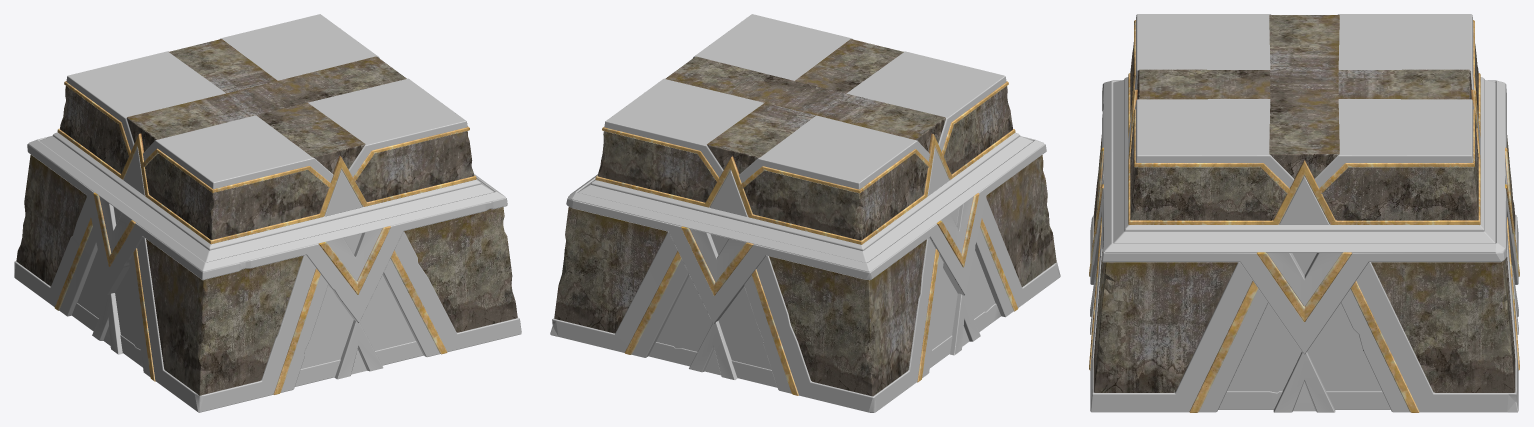
3 renders of one model, left to right at view 1: azimuth 30°, elevation 25°; view 2: azimuth 150°, elevation 25°; view 3: azimuth 270°, elevation 25°, orthographic. The views are drawn at different scales.
Visible parts, largest first — view 1: SM_DK_16m_TowerMid_013_LOD0; view 2: SM_DK_16m_TowerMid_013_LOD0; view 3: SM_DK_16m_TowerMid_013_LOD0.
Part boxes in pixels (bbox=[...]): SM_DK_16m_TowerMid_013_LOD0: bbox=[14, 14, 521, 412]; SM_DK_16m_TowerMid_013_LOD0: bbox=[550, 14, 1060, 412]; SM_DK_16m_TowerMid_013_LOD0: bbox=[1089, 14, 1519, 412].
Bounding box in the file's own units: 6.39 × 3.89 × 6.39.
